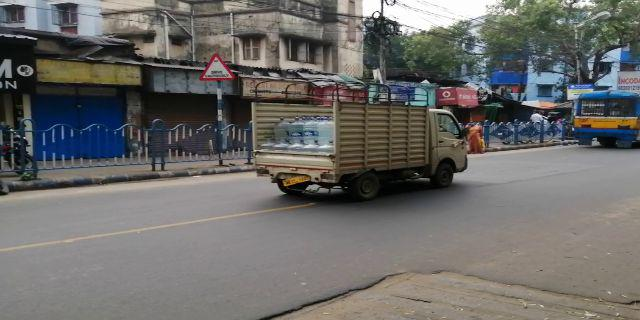Bus: (575, 93, 636, 139)
Minitruck: (250, 77, 474, 206)
